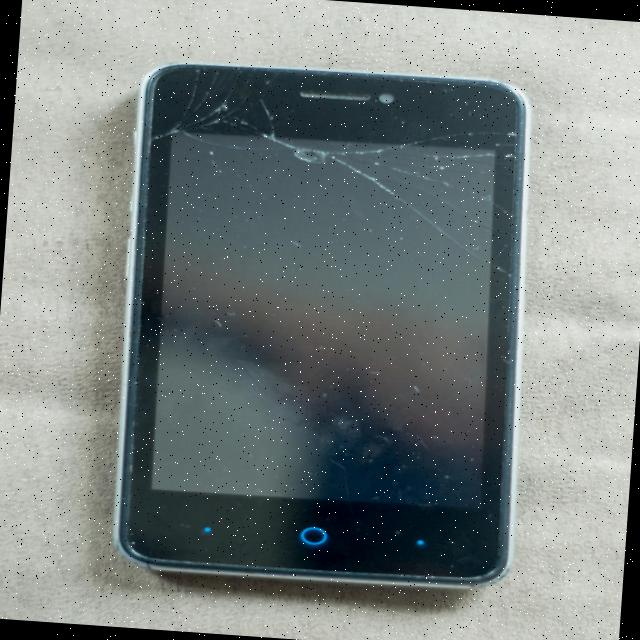Phone: (100, 53, 551, 600)
